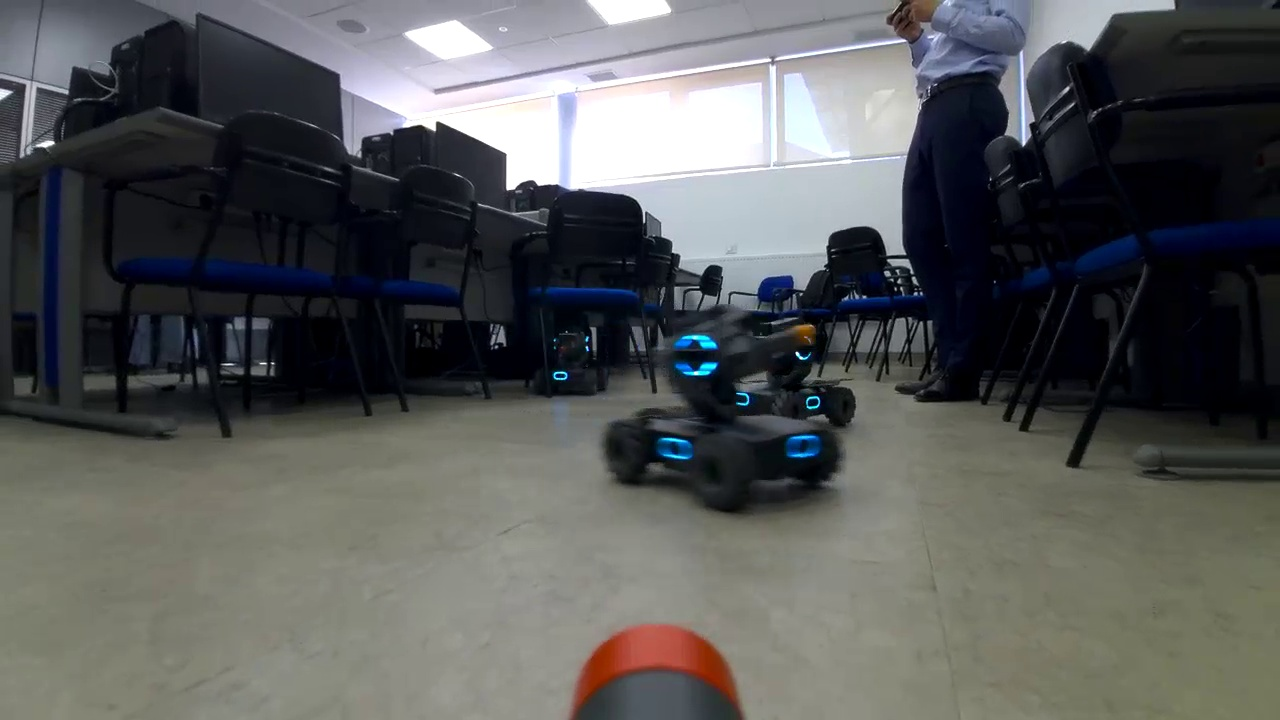robot: (602, 296, 847, 512), (730, 314, 868, 435), (529, 321, 609, 400)
